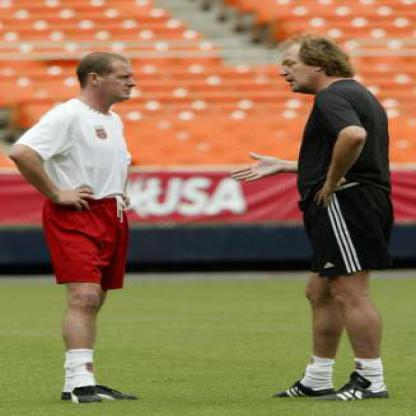face: (273, 47, 319, 94), (99, 56, 142, 102)
